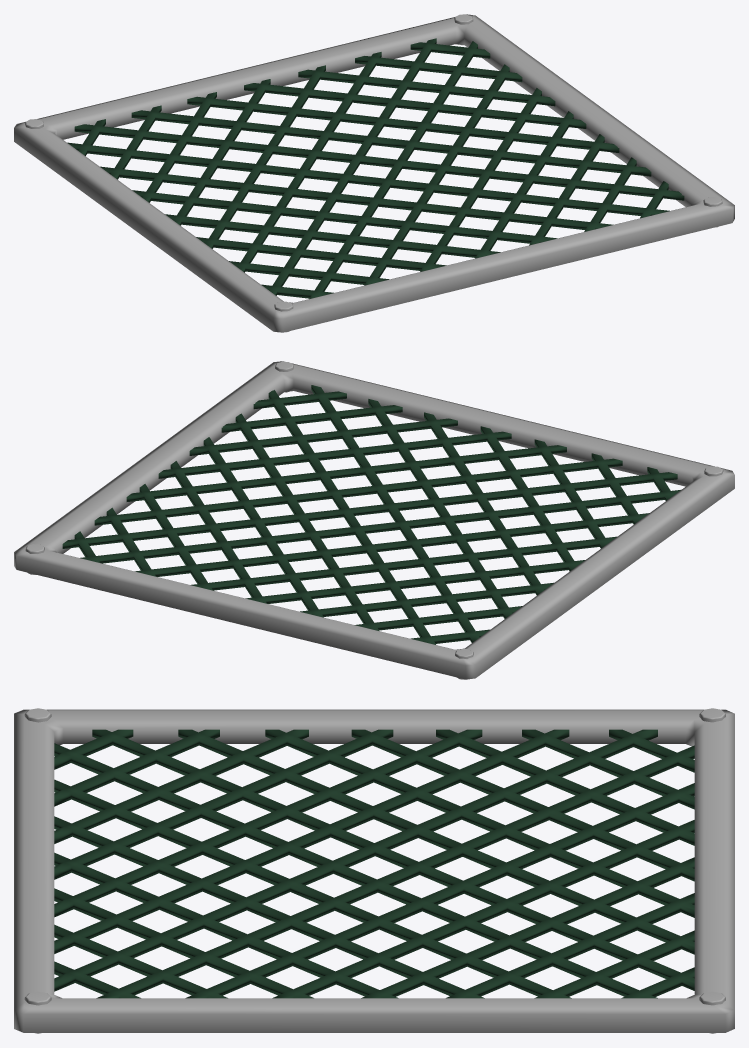
File: grate.fbx
3 views of the same model, one above another, from view 1: azimuth 30°, elevation 25°; view 2: azimuth 150°, elevation 25°; view 3: azimuth 270°, elevation 25° (orthographic). The views are drawn at different scales.
Parts seen in each view (by area): view 1: polySurface1; view 2: polySurface1; view 3: polySurface1.
Part boxes in pixels (x1,y1,x2,y2): polySurface1: (14,14,734,332); polySurface1: (14,361,734,679); polySurface1: (14,708,734,1033).
Size of the model in its own units: 1.92 by 0.0958 by 1.92.
